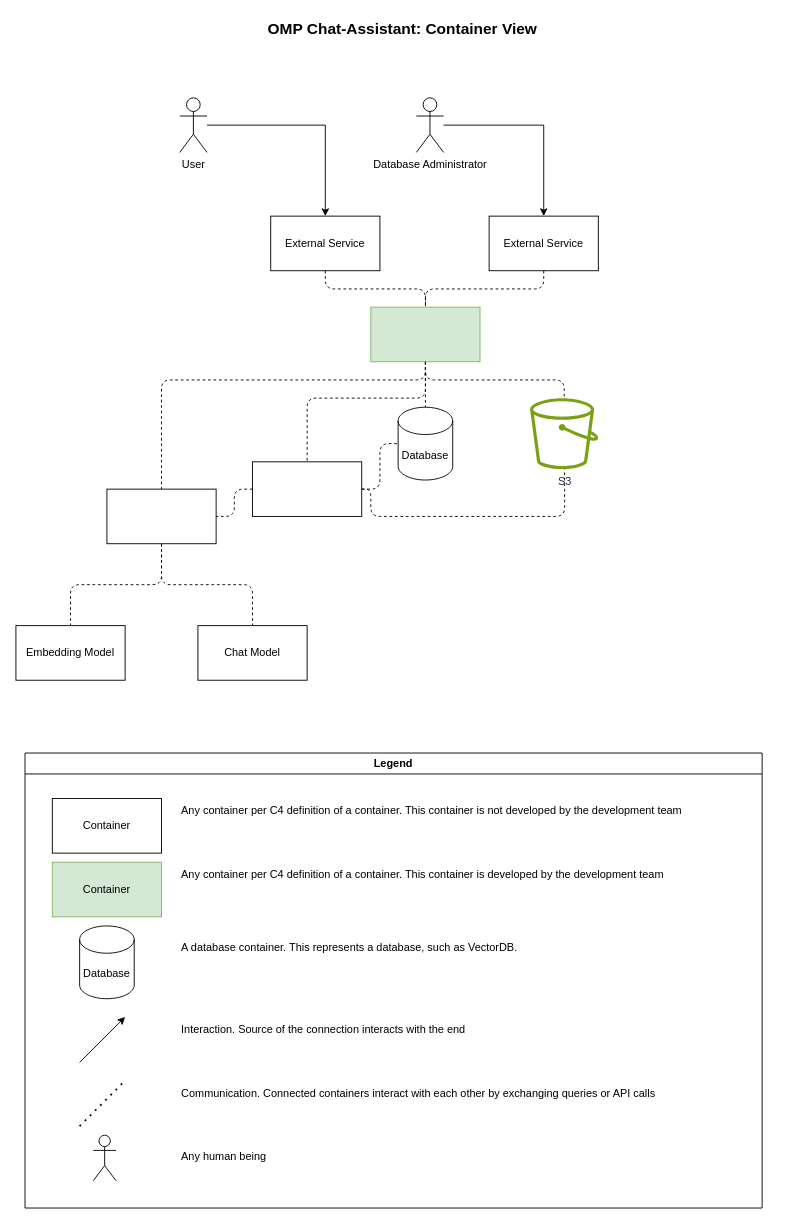
This 805x1224 diagram has some shape labels left out. Here are the shapes that lost their labels. From the top down, the centre of each, then its label:
(425,334): API Application
(307,488): Prefect
(161,516): Ollama
(104,1157): Actor
